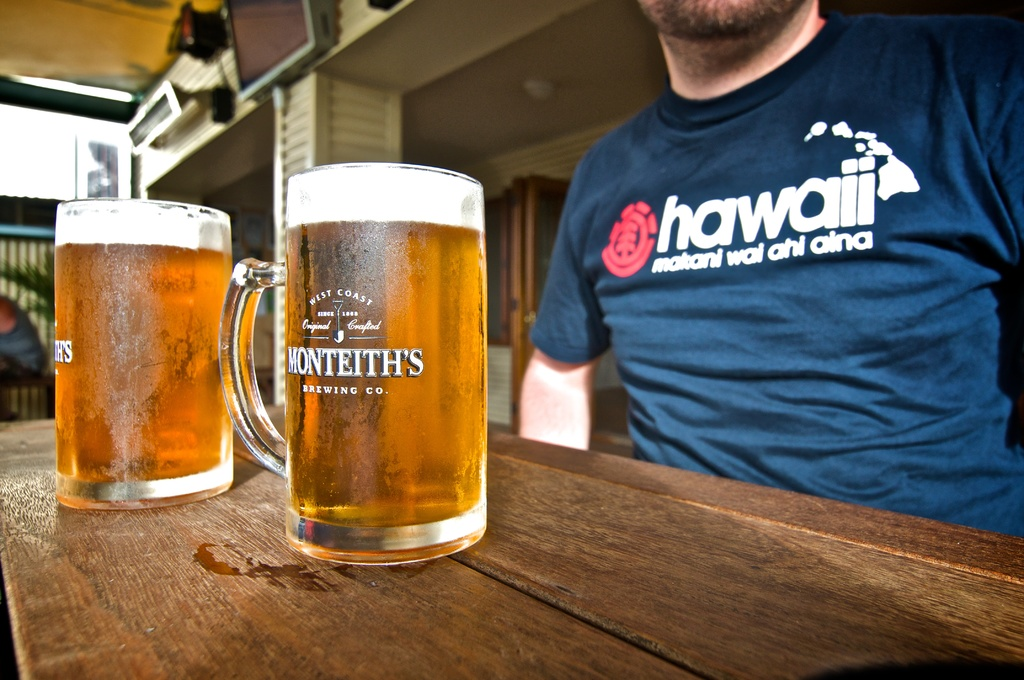Beer: (285, 206, 482, 518), (44, 225, 225, 477)
